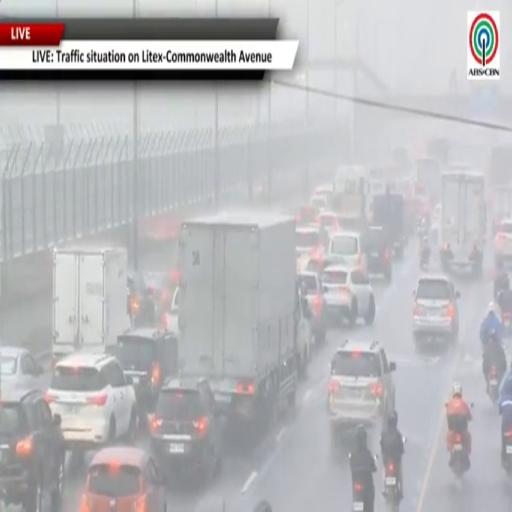car: (46, 352, 136, 453), (0, 389, 65, 511), (150, 378, 222, 479), (328, 341, 395, 433), (114, 328, 178, 423), (80, 446, 167, 511), (321, 265, 375, 326), (413, 275, 459, 345), (298, 271, 326, 344), (0, 346, 43, 388), (327, 231, 367, 271), (127, 271, 156, 326), (364, 226, 392, 281), (144, 271, 176, 318), (296, 227, 323, 267), (304, 254, 345, 277), (494, 218, 512, 268), (161, 286, 179, 335), (319, 211, 339, 244), (296, 204, 319, 226), (313, 183, 335, 201), (310, 194, 330, 212), (170, 286, 179, 315)
motorcycle: (450, 419, 470, 477), (383, 461, 401, 511), (487, 365, 500, 404), (352, 480, 367, 511), (503, 429, 511, 475), (352, 483, 364, 511), (502, 309, 511, 334), (420, 248, 430, 270)
truck: (178, 212, 312, 424), (53, 247, 130, 364), (440, 165, 486, 275), (372, 190, 407, 259), (333, 166, 369, 231), (415, 157, 442, 204), (490, 183, 511, 234), (489, 146, 511, 187), (426, 138, 451, 166)
